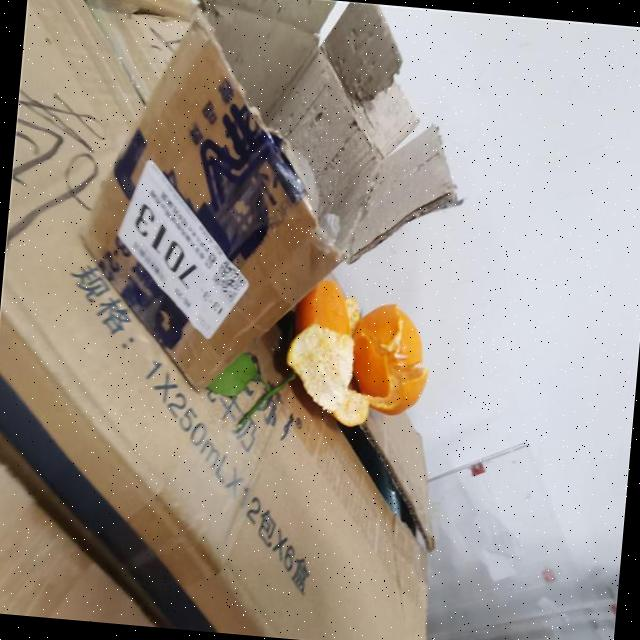orange-peel: (280, 274, 435, 434), (344, 298, 433, 417)
